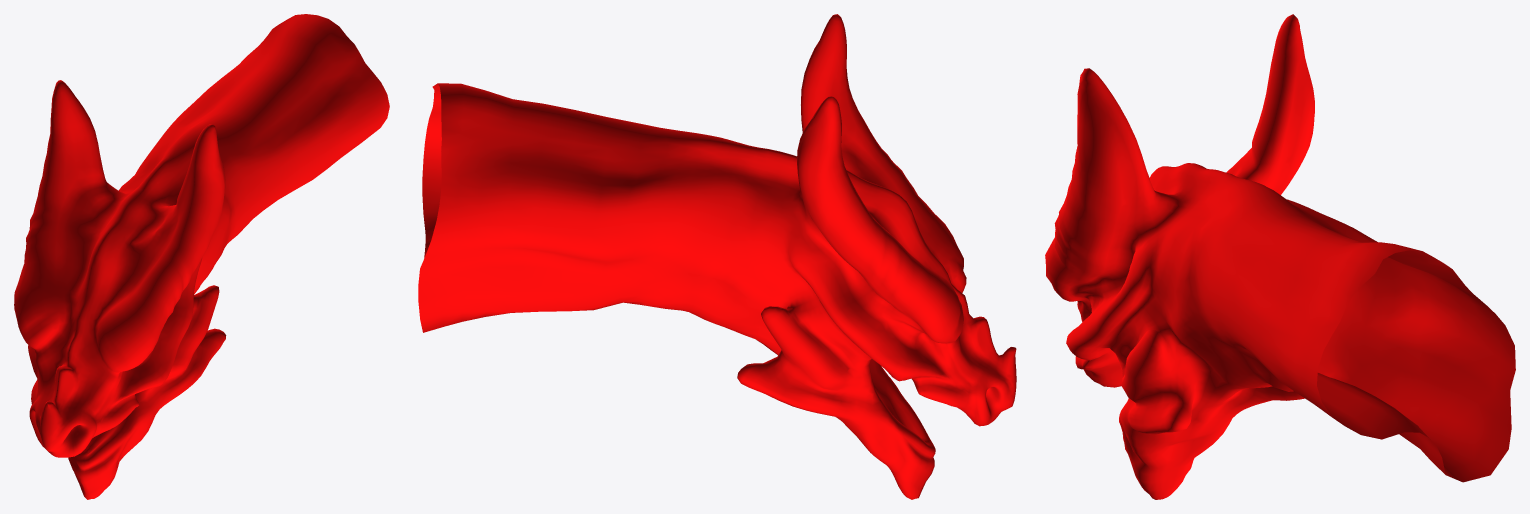
File: Cabeza1.obj
3 renders of one model, left to right at view 1: azimuth 30°, elevation 25°; view 2: azimuth 150°, elevation 25°; view 3: azimuth 270°, elevation 25°, orthographic. The views are drawn at different scales.
Parts seen in each view (by area): view 1: Cabeza1; view 2: Cabeza1; view 3: Cabeza1.
Boxes of the visible parts, x1,y1,x2,y2 form: Cabeza1: (14, 14, 389, 499); Cabeza1: (418, 14, 1016, 499); Cabeza1: (1045, 14, 1515, 499).
Bounding box in the file's own units: 2.55 × 2.15 × 1.84.
Materials: 1 (1 with a texture image).
